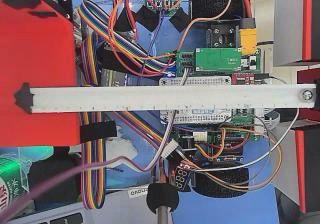ironball: (302, 89, 312, 101)
